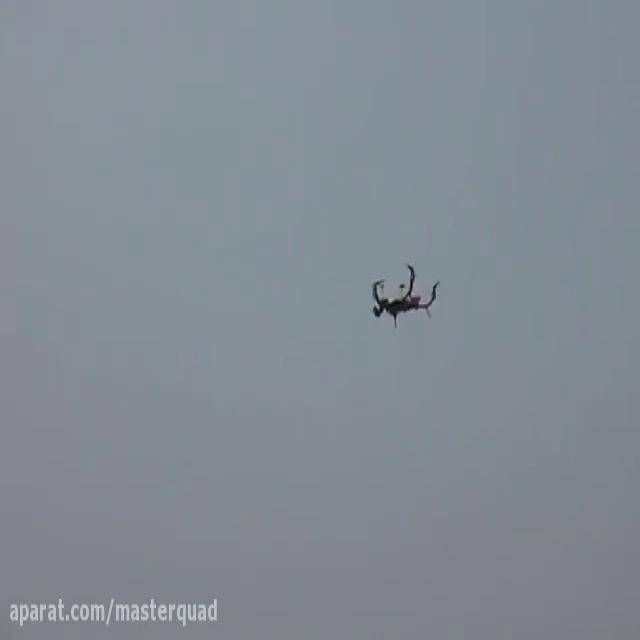drone: (368, 258, 442, 332)
